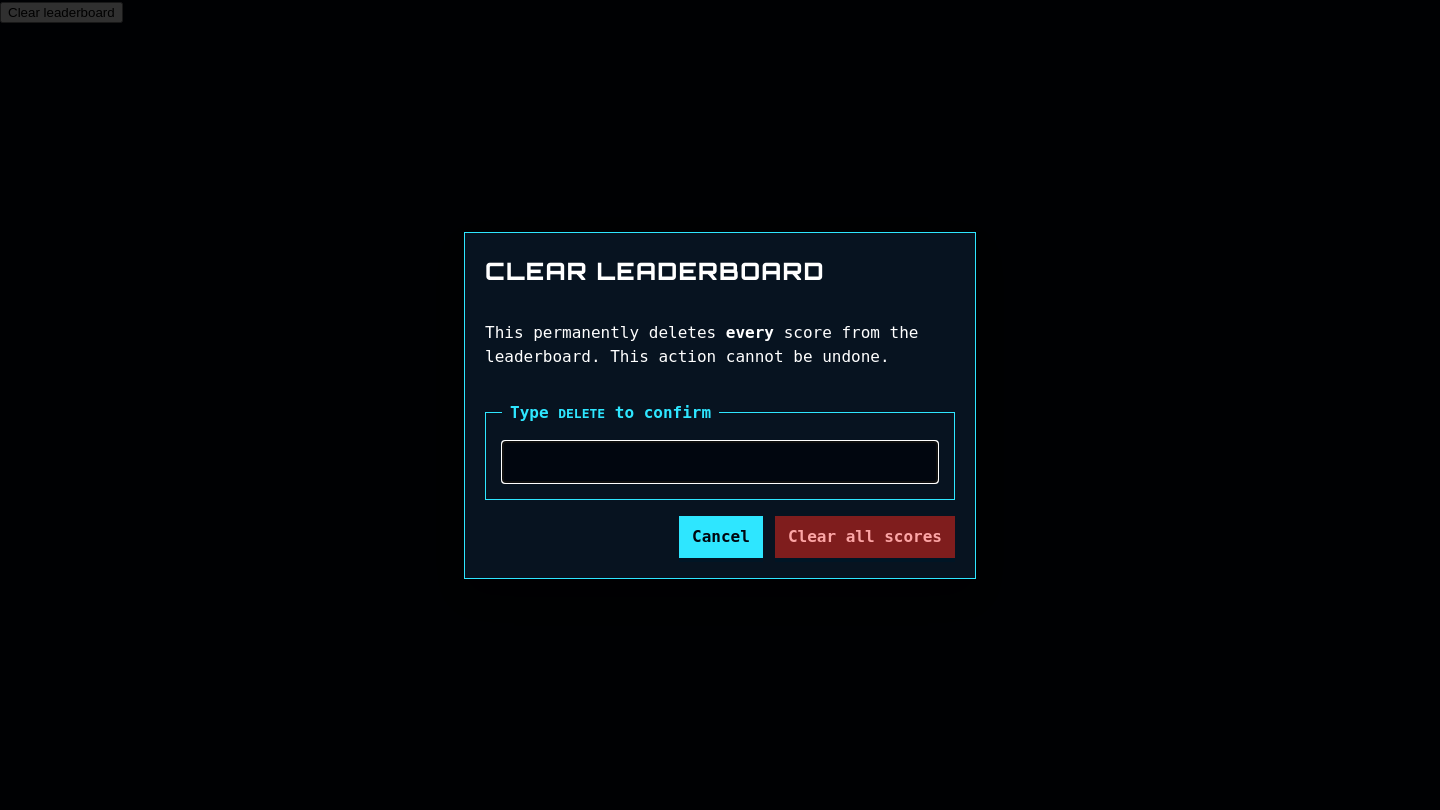
Test: PurgeDialog › shows a network error when the request never completes
Type "DELETE" into the field labelled "Type DELETE to confirm" at (720, 462), box [502,440,938,482]
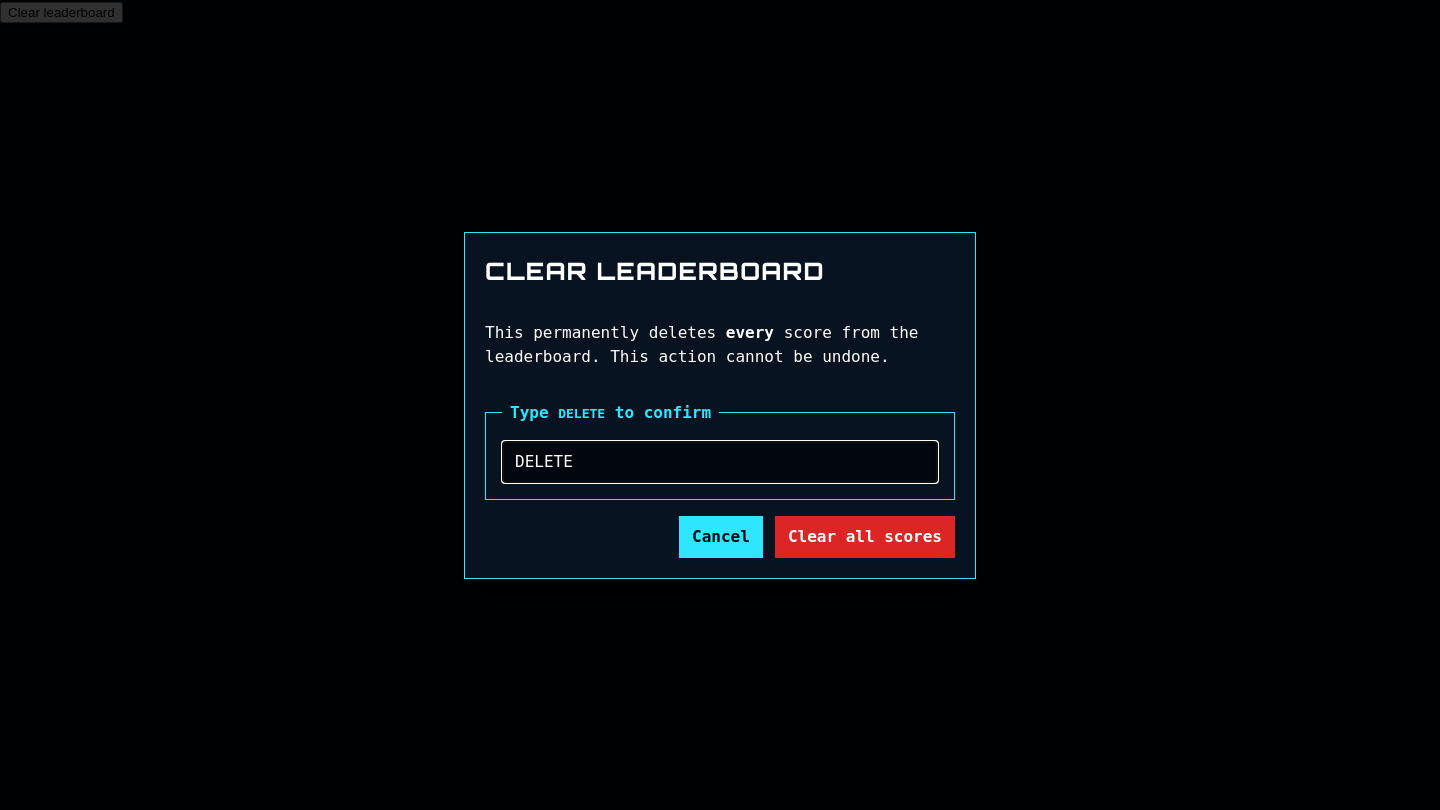
Click the button "Clear all scores" at (865, 536), box [775,516,955,558]
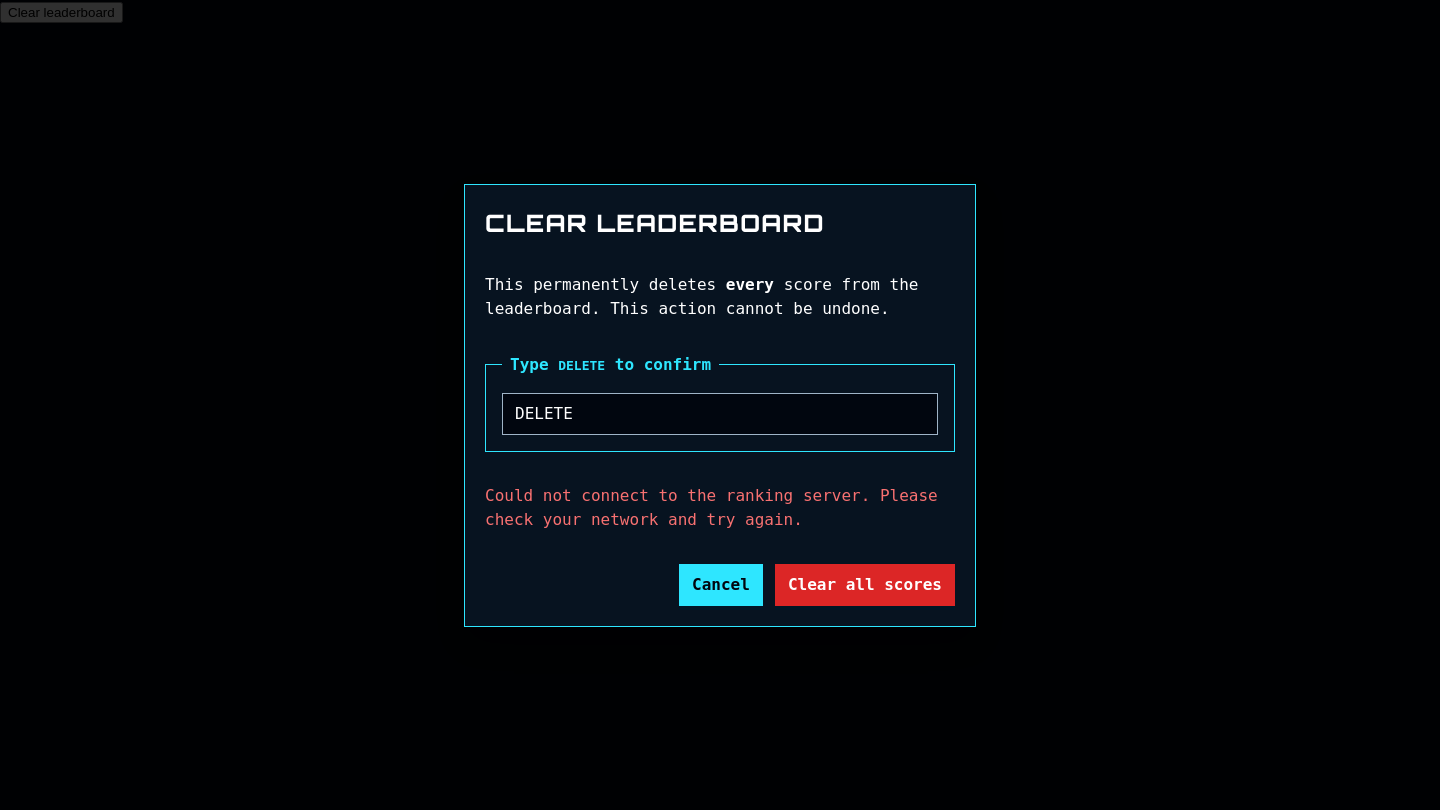
Check: the dialog is shown, box [464,184,976,626]
Check: the text "Could not connect to the ranking server" is shown, box [485,486,938,528]
